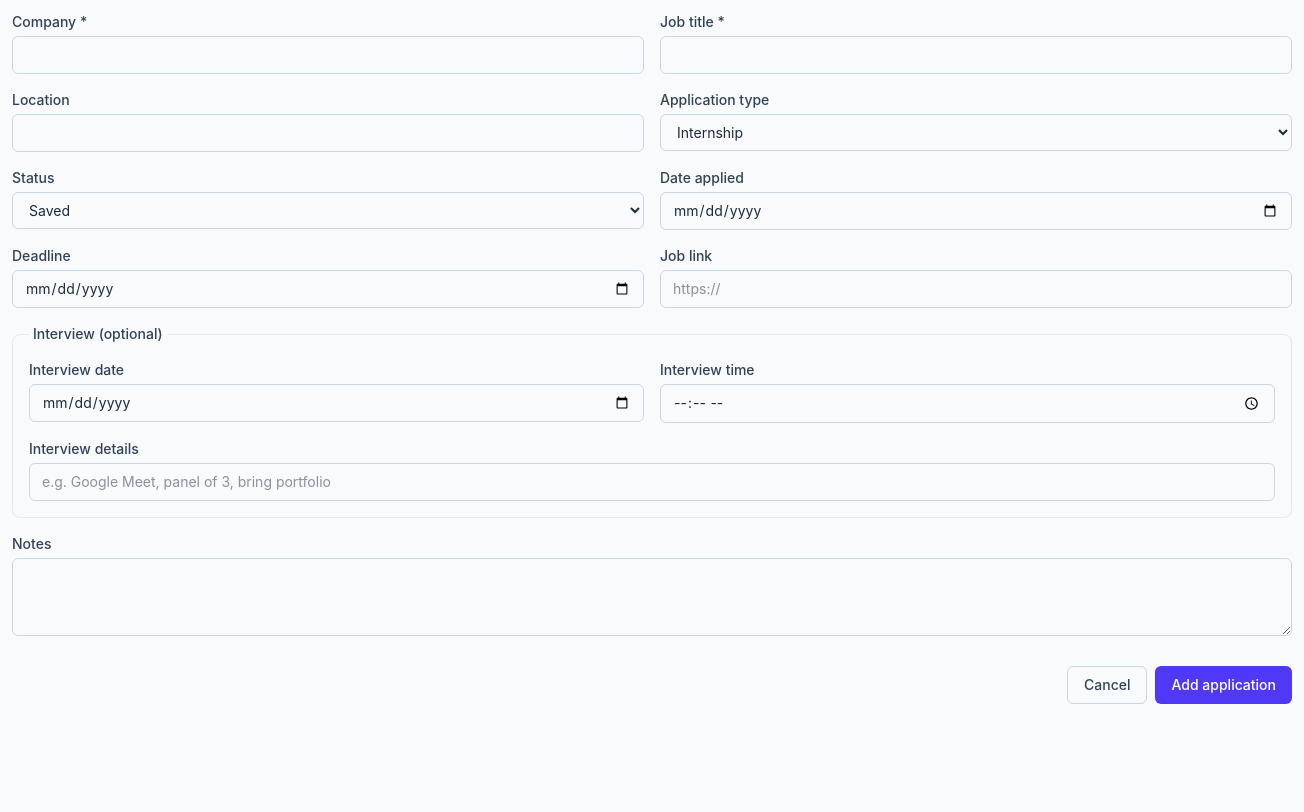
Test: ApplicationForm › shows errors and does not submit when required fields are empty
The image size is (1304, 812).
Click the button "Add application" at (1224, 685), box [1156,666,1292,704]
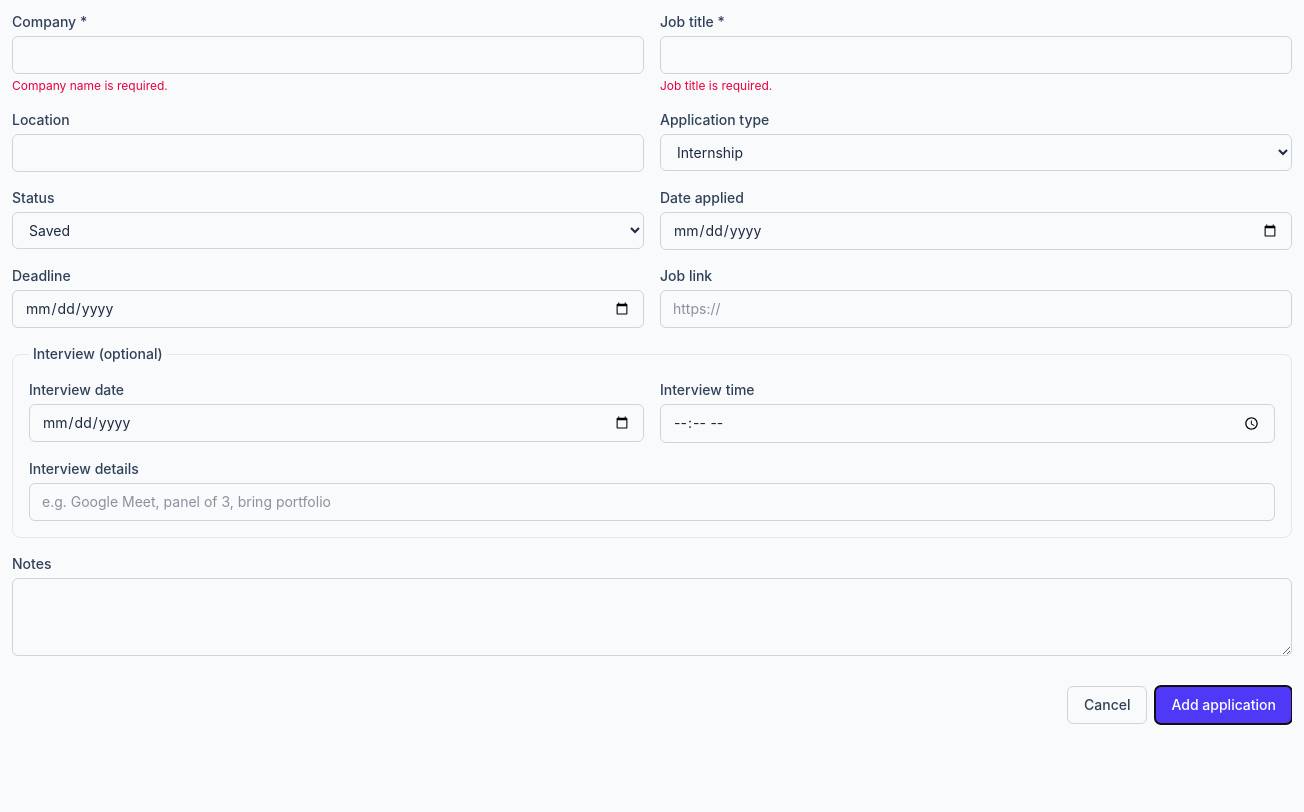
expect the text "Company name is required." is shown: met, box [12,78,168,93]
expect the text "Job title is required." is shown: met, box [660,78,772,93]
